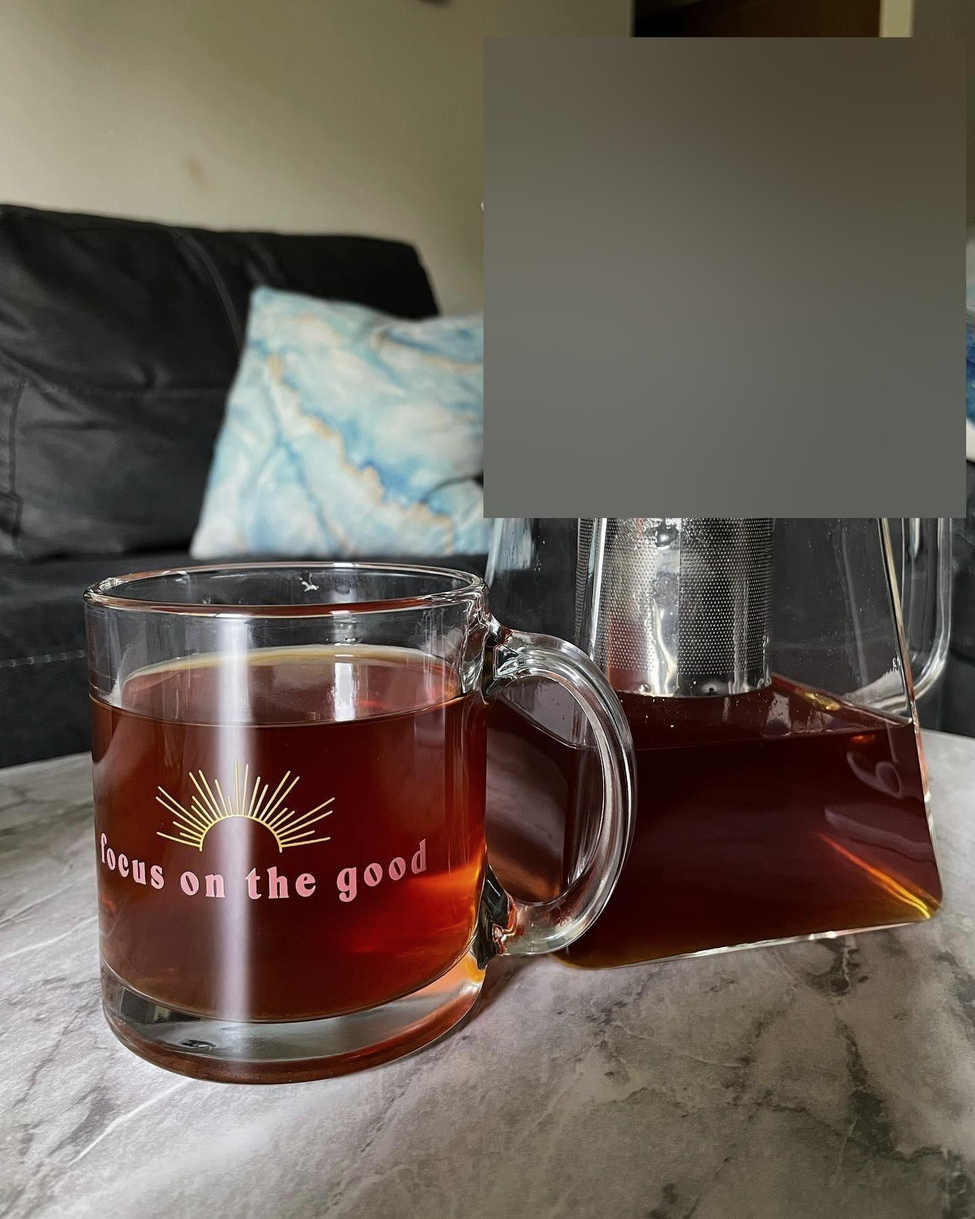glass-mug: (72, 540, 643, 1096)
